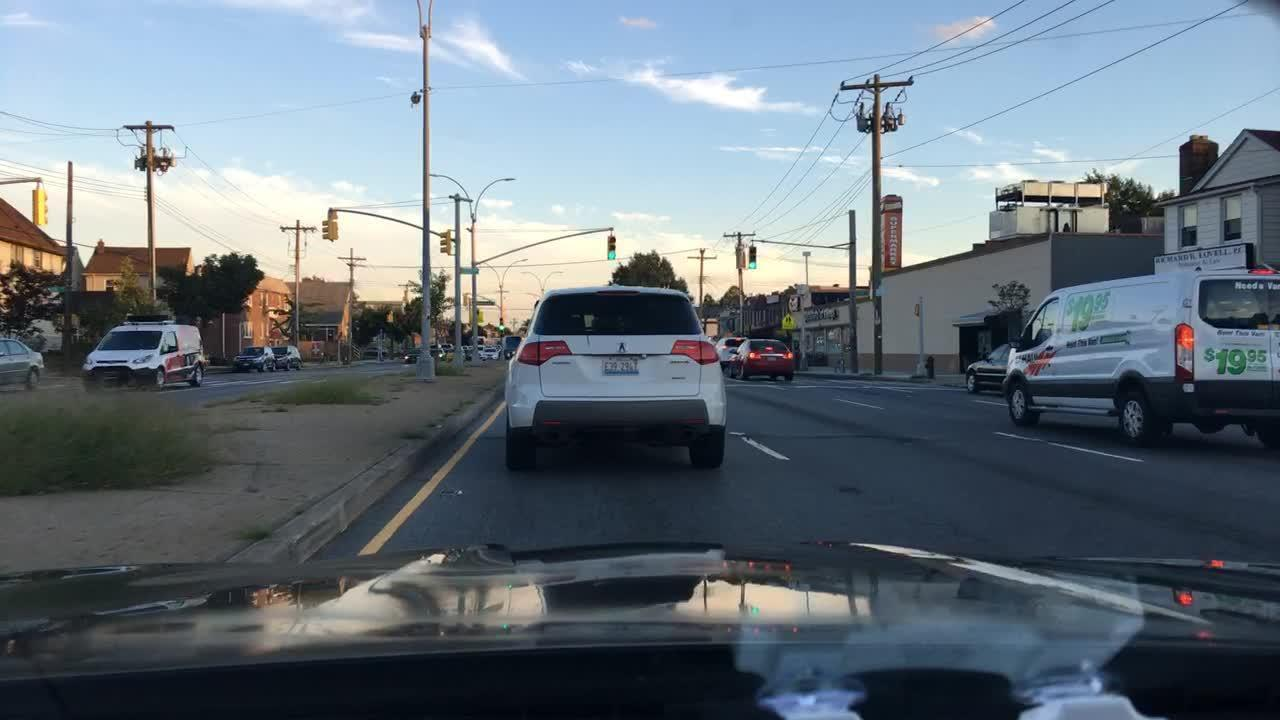acura: (609, 334, 640, 362)
